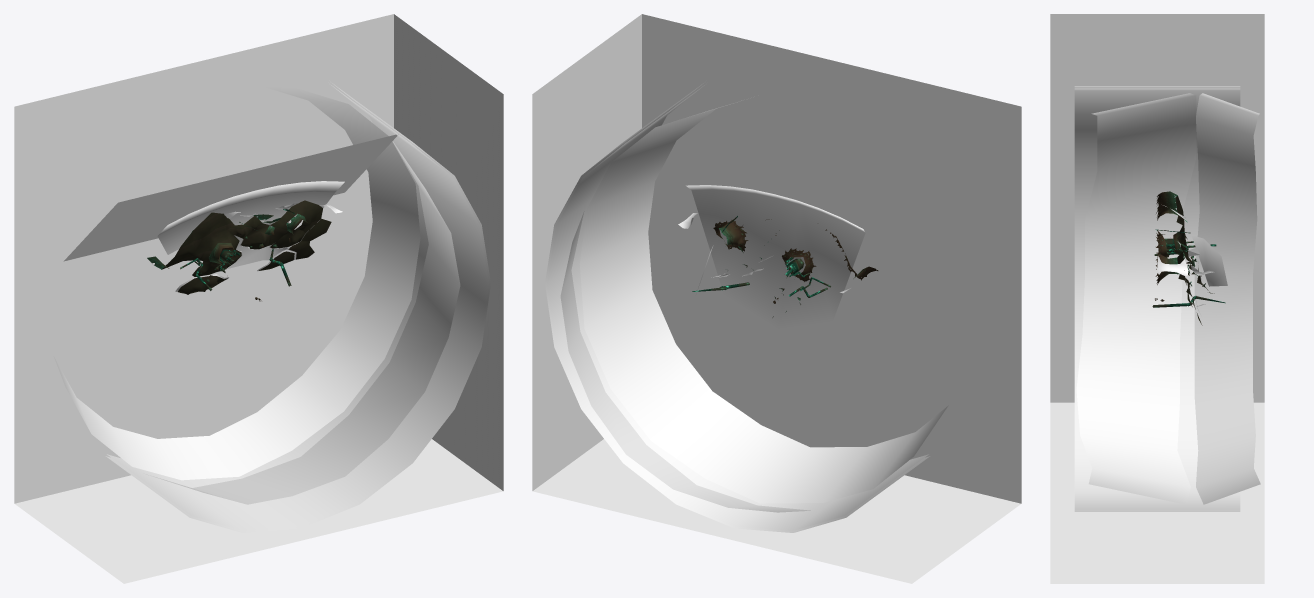
File: model_uniformblur.glb
The picture shows the model from 3 angles, left to right: view 1: azimuth 30°, elevation 25°; view 2: azimuth 150°, elevation 25°; view 3: azimuth 270°, elevation 25°; orthographic projection. The views are drawn at different scales.
Parts seen in each view (by area): view 1: rsrc.world.skybox.clockwork_tunnels.parts.model_skywall-Mesh (×5), rsrc.world.skybox.catacombs.parts.base-MeshNodes["mesh_backd, rsrc.world.skybox.catacombs.parts.base-MeshNodes["mesh_rock", rsrc.world.skybox.catacombs.parts.base-MeshNodes["mesh_rockw; view 2: rsrc.world.skybox.clockwork_tunnels.parts.model_skywall-Mesh (×5), rsrc.world.skybox.catacombs.parts.base-MeshNodes["mesh_backd, rsrc.world.skybox.catacombs.parts.base-MeshNodes["mesh_rockw, rsrc.world.skybox.catacombs.parts.base-MeshNodes["mesh_pipes; view 3: rsrc.world.skybox.clockwork_tunnels.parts.model_skywall-Mesh (×5), rsrc.world.skybox.catacombs.parts.base-MeshNodes["mesh_rockw, rsrc.world.skybox.catacombs.parts.base-MeshNodes["mesh_backd, rsrc.world.skybox.catacombs.parts.base-MeshNodes["mesh_rock", rsrc.world.skybox.catacombs.parts.base-MeshNodes["mesh_pipes, rsrc.world.skybox.catacombs.parts.base-MeshNodes["mesh_farro.
Part boxes in pixels (bbox=[...]): rsrc.world.skybox.clockwork_tunnels.parts.model_skywall-Mesh (×5): bbox=[14, 14, 503, 583]; rsrc.world.skybox.catacombs.parts.base-MeshNodes["mesh_backd: bbox=[63, 134, 398, 269]; rsrc.world.skybox.catacombs.parts.base-MeshNodes["mesh_rock": bbox=[161, 200, 331, 294]; rsrc.world.skybox.catacombs.parts.base-MeshNodes["mesh_rockw: bbox=[147, 214, 309, 283]; rsrc.world.skybox.clockwork_tunnels.parts.model_skywall-Mesh (×5): bbox=[532, 14, 1021, 583]; rsrc.world.skybox.catacombs.parts.base-MeshNodes["mesh_backd: bbox=[686, 185, 865, 329]; rsrc.world.skybox.catacombs.parts.base-MeshNodes["mesh_rockw: bbox=[713, 219, 878, 317]; rsrc.world.skybox.catacombs.parts.base-MeshNodes["mesh_pipes: bbox=[692, 216, 830, 297]; rsrc.world.skybox.clockwork_tunnels.parts.model_skywall-Mesh (×5): bbox=[1050, 14, 1264, 583]; rsrc.world.skybox.catacombs.parts.base-MeshNodes["mesh_rockw: bbox=[1155, 191, 1205, 287]; rsrc.world.skybox.catacombs.parts.base-MeshNodes["mesh_backd: bbox=[1191, 235, 1227, 286]; rsrc.world.skybox.catacombs.parts.base-MeshNodes["mesh_rock": bbox=[1175, 195, 1214, 325]; rsrc.world.skybox.catacombs.parts.base-MeshNodes["mesh_pipes: bbox=[1152, 229, 1225, 307]; rsrc.world.skybox.catacombs.parts.base-MeshNodes["mesh_farro: bbox=[1157, 205, 1188, 276].
Size of the model in its own units: 90 by 90 by 52.32.
Materials: 14 (6 with a texture image).
